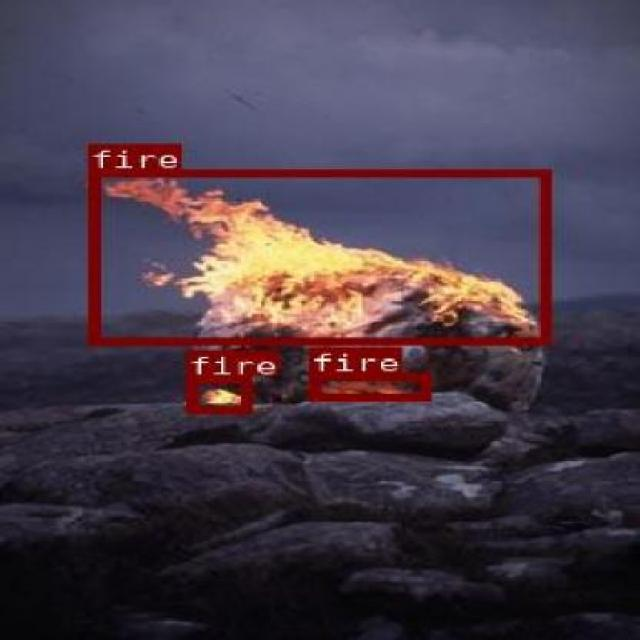Fire: (86, 168, 548, 344), (308, 372, 430, 399), (184, 375, 250, 413)
